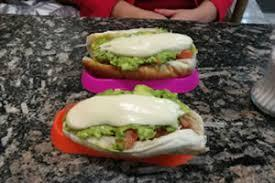Completos: (62, 92, 208, 156), (87, 28, 199, 80)
